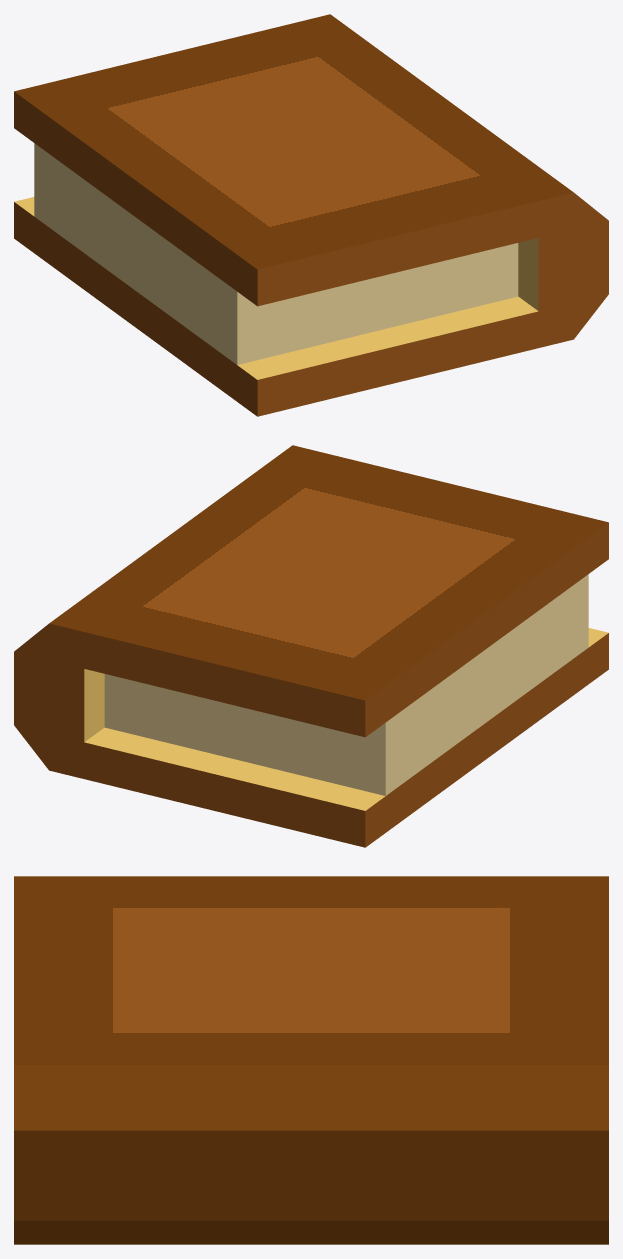
Rendered from grimoire.obj.
The picture shows the model from 3 angles, top to bottom: view 1: azimuth 30°, elevation 25°; view 2: azimuth 150°, elevation 25°; view 3: azimuth 270°, elevation 25°; orthographic projection. The views are drawn at different scales.
Visible parts, largest first — view 1: spine, bottom_page, top_page; view 2: spine, bottom_page, top_page; view 3: spine.
Part boxes in pixels (bbox=[...]): spine: bbox=[14, 14, 608, 416]; bottom_page: bbox=[34, 180, 518, 364]; top_page: bbox=[34, 143, 518, 328]; spine: bbox=[14, 445, 608, 847]; bottom_page: bbox=[104, 611, 588, 795]; top_page: bbox=[104, 574, 588, 759]; spine: bbox=[14, 876, 608, 1244].
Size of the model in its own units: 0.3125 by 0.125 by 0.375.
